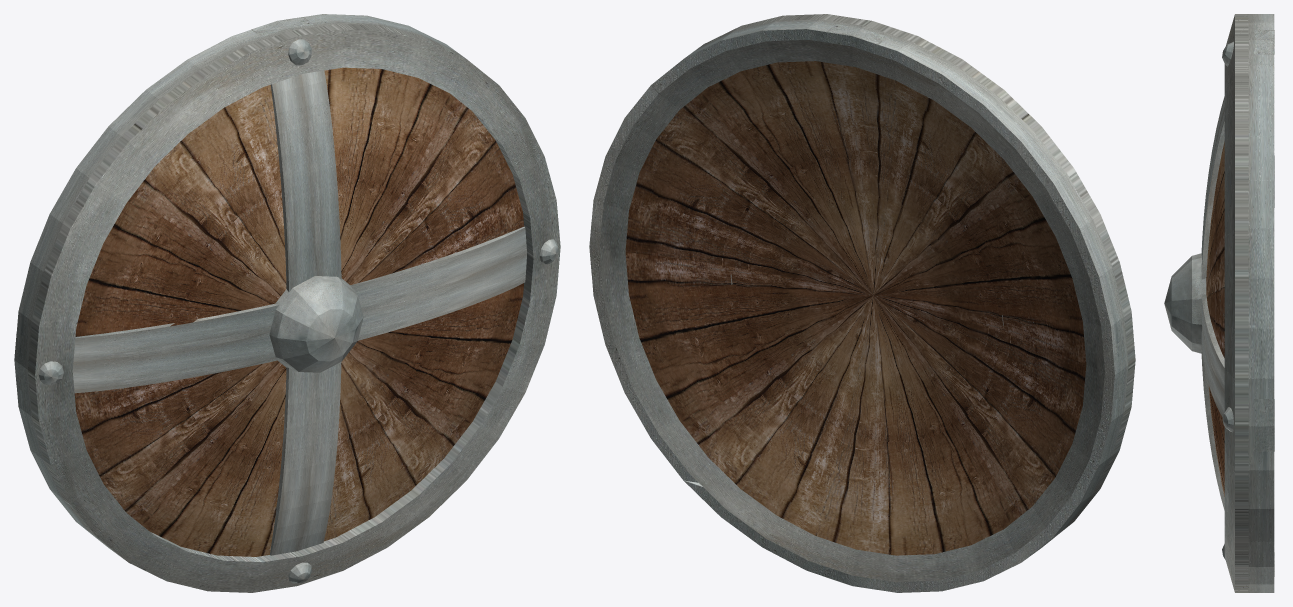
File: Shield.fbx.fbx
3 views of the same model, side by side, from view 1: azimuth 30°, elevation 25°; view 2: azimuth 150°, elevation 25°; view 3: azimuth 270°, elevation 25° (orthographic). The views are drawn at different scales.
Visible parts, largest first — view 1: Metal, Wood; view 2: Wood, Metal; view 3: Metal, Wood.
Part boxes in pixels (bbox=[...]): Metal: bbox=[14, 14, 560, 592]; Wood: bbox=[74, 67, 524, 556]; Wood: bbox=[625, 61, 1086, 555]; Metal: bbox=[589, 14, 1135, 592]; Metal: bbox=[1164, 14, 1274, 592]; Wood: bbox=[1206, 142, 1224, 496].
Bounding box in the file's own units: 200 × 200 × 39.38.
Materials: 2 (2 with a texture image).
